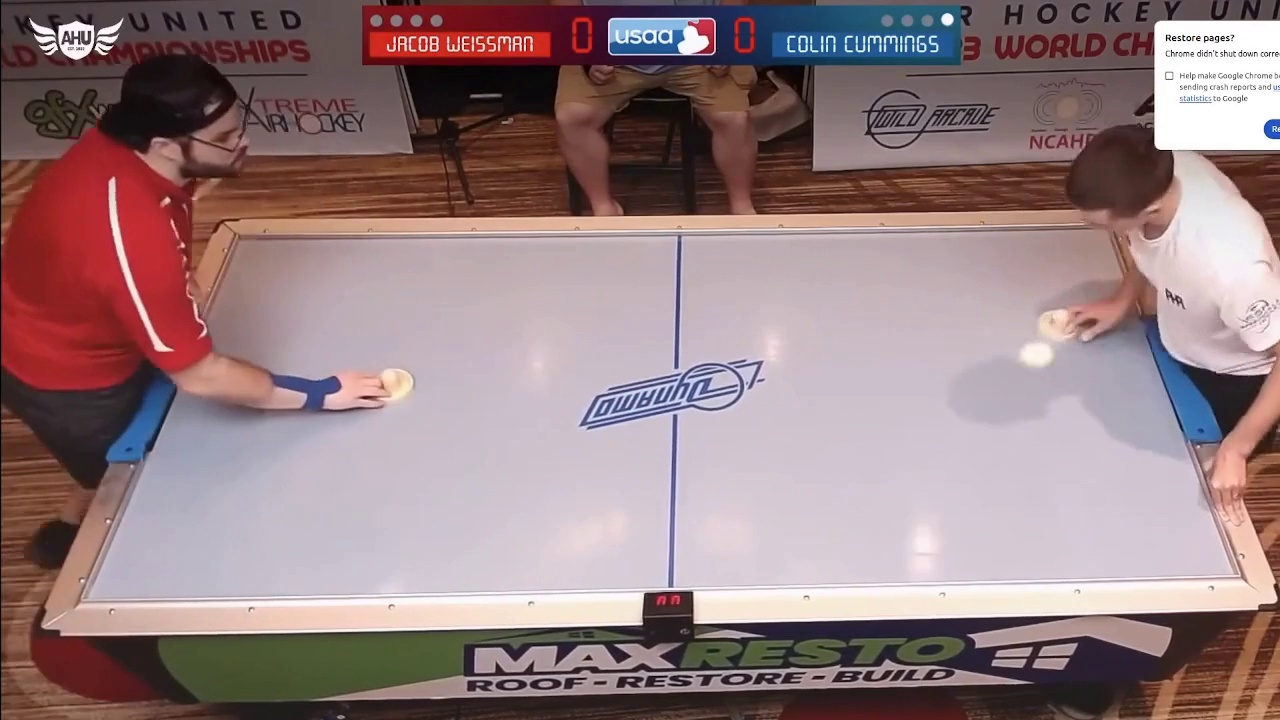player: (1037, 306, 1085, 342), (369, 367, 419, 400)
puck: (1016, 342, 1054, 367)
table: (72, 216, 1266, 608)
